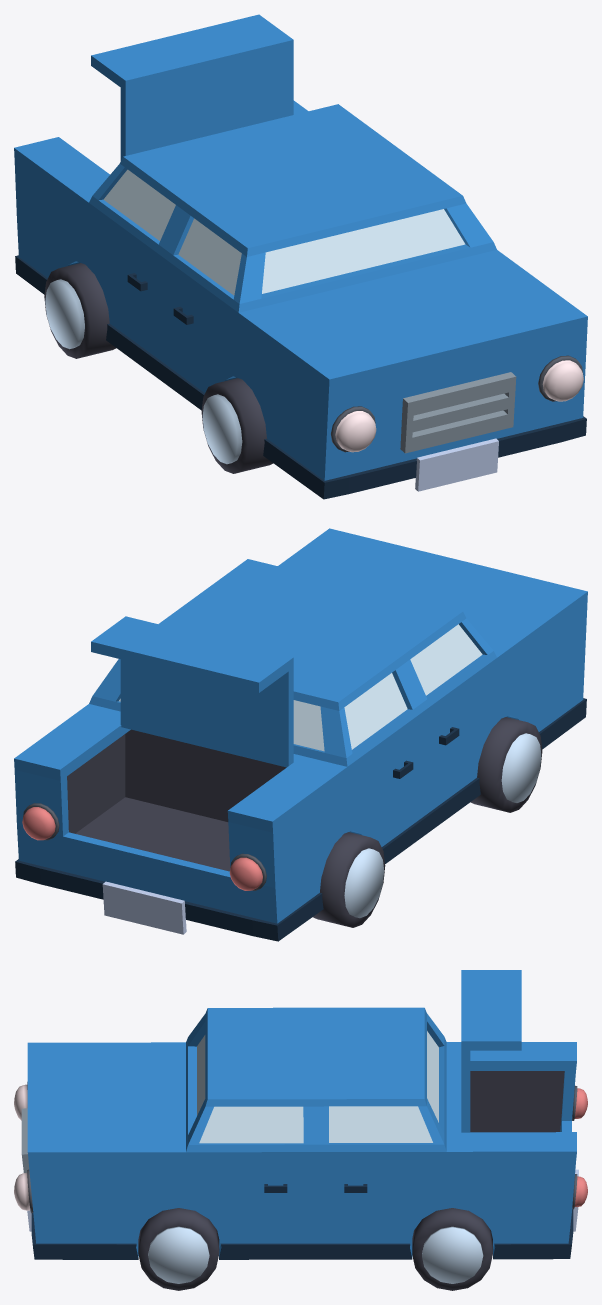
The model's file is truck test.fbx.
3 renders of one model, top to bottom at view 1: azimuth 30°, elevation 25°; view 2: azimuth 150°, elevation 25°; view 3: azimuth 270°, elevation 25°, orthographic. The views are drawn at different scales.
Parts seen in each view (by area): view 1: car, bagage, wheels, vent, front lights, plate; view 2: car, bagage, wheels, plate.001, back lights; view 3: car, wheels, bagage, front lights, back lights, vent.
Part boxes in pixels (bbox=[...]): car: bbox=[14, 100, 587, 499]; bagage: bbox=[91, 14, 293, 160]; wheels: bbox=[44, 263, 273, 473]; vent: bbox=[400, 372, 516, 453]; front lights: bbox=[331, 355, 583, 452]; plate: bbox=[415, 438, 498, 491]; car: bbox=[14, 528, 587, 941]; bagage: bbox=[91, 616, 293, 767]; wheels: bbox=[313, 717, 542, 927]; plate.001: bbox=[102, 881, 186, 934]; back lights: bbox=[22, 803, 266, 890]; car: bbox=[27, 1007, 576, 1259]; wheels: bbox=[138, 1208, 492, 1290]; bagage: bbox=[461, 970, 521, 1132]; front lights: bbox=[14, 1082, 33, 1213]; back lights: bbox=[572, 1085, 587, 1209]; vent: bbox=[21, 1108, 29, 1172].
Size of the model in its own units: 235 by 189 by 442.
